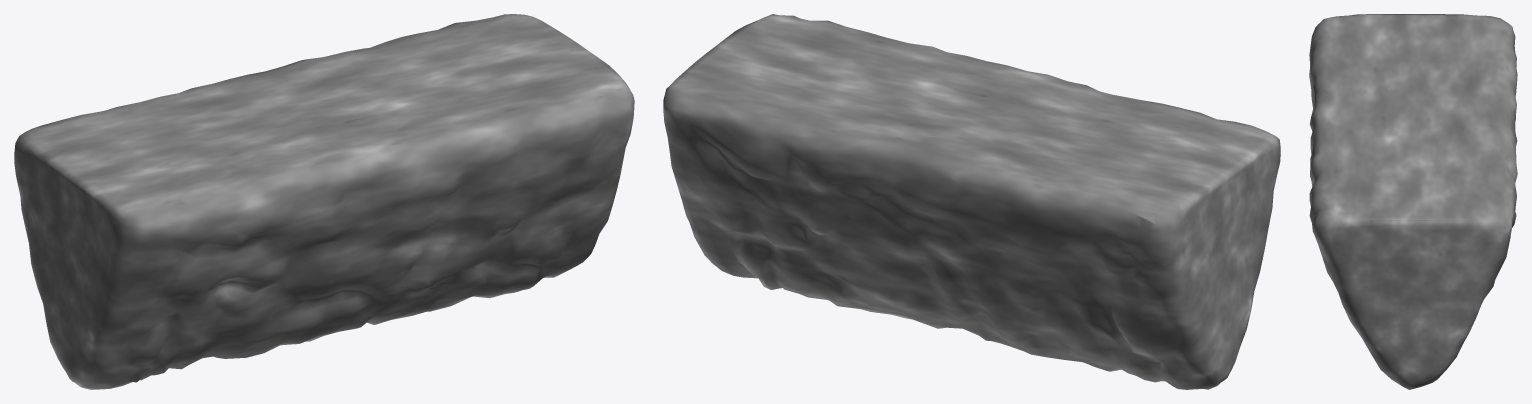
The model's file is Main Rock 10.fbx.
The picture shows the model from 3 angles, left to right: view 1: azimuth 30°, elevation 25°; view 2: azimuth 150°, elevation 25°; view 3: azimuth 270°, elevation 25°; orthographic projection. The views are drawn at different scales.
Visible parts, largest first — view 1: Main rock 10; view 2: Main rock 10; view 3: Main rock 10.
Boxes of the visible parts, x1,y1,x2,y2 form: Main rock 10: (14,14,634,389); Main rock 10: (663,14,1280,389); Main rock 10: (1309,14,1517,389).
Bounding box in the file's own units: 429 × 178 × 182.
